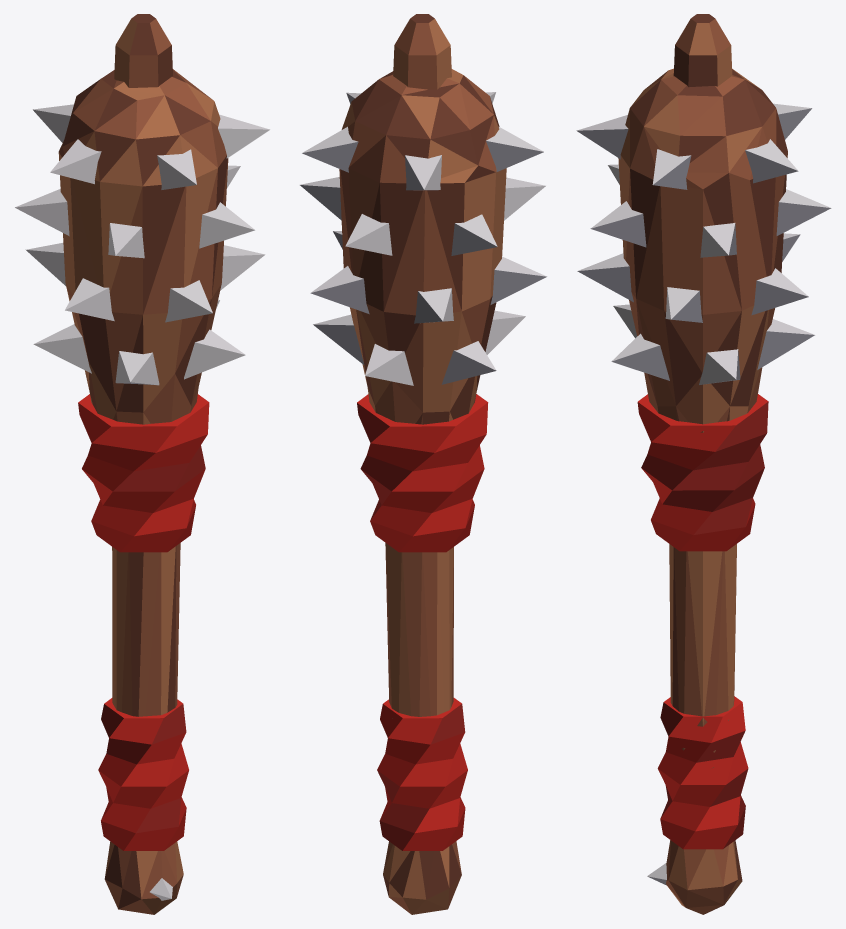
File: club.glb
The picture shows the model from 3 angles, left to right: view 1: azimuth 30°, elevation 25°; view 2: azimuth 150°, elevation 25°; view 3: azimuth 270°, elevation 25°; orthographic projection.
Parts seen in each view (by area): view 1: club; view 2: club; view 3: club.
Part boxes in pixels (x1,y1,x2,y2): club: (15, 14, 269, 914); club: (300, 14, 546, 914); club: (576, 14, 831, 914).
Size of the model in its own units: 0.2235 by 0.876 by 0.2273.
